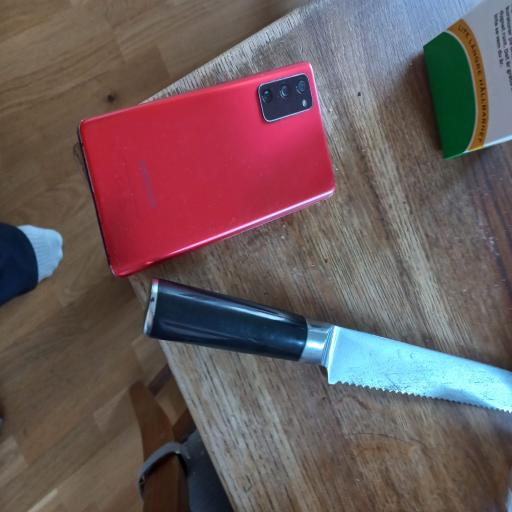phone: (79, 63, 334, 275)
